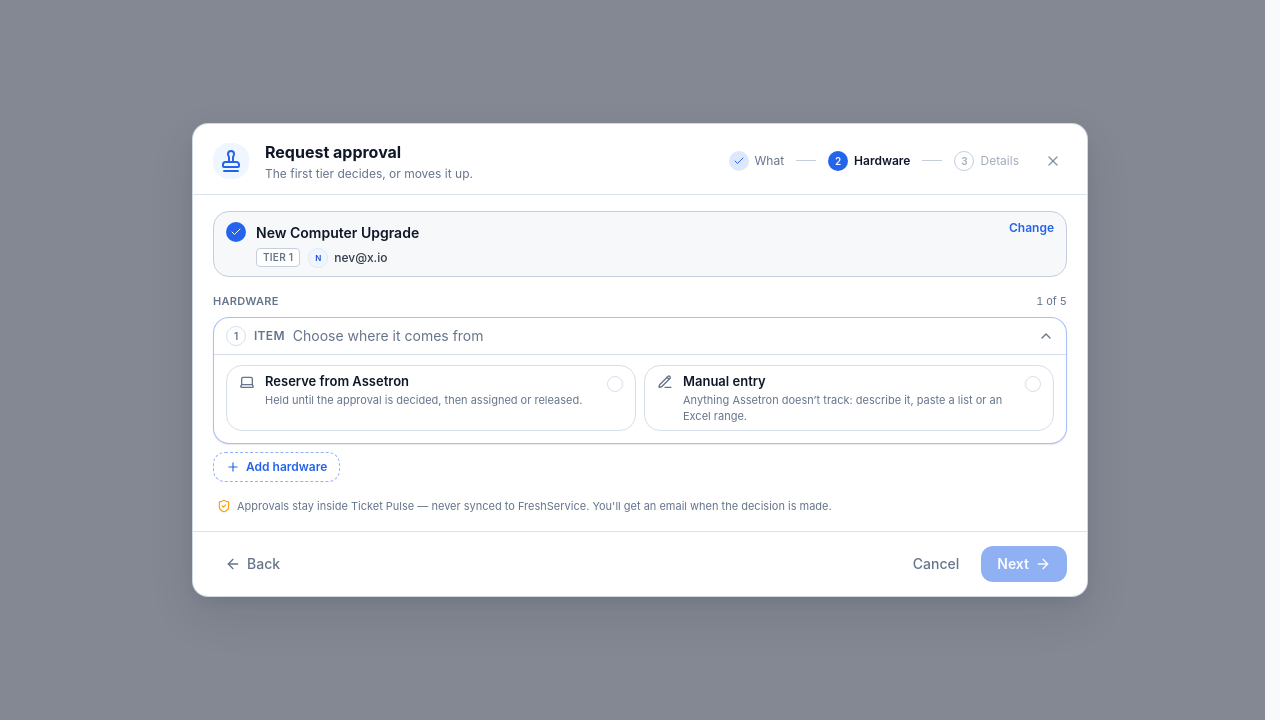
Test: RequestApprovalModal — steps and hardware items › up to 5 items; − removes one
Click the button with test id "add-hardware".
click(277, 467)  # box [213,452,340,482]
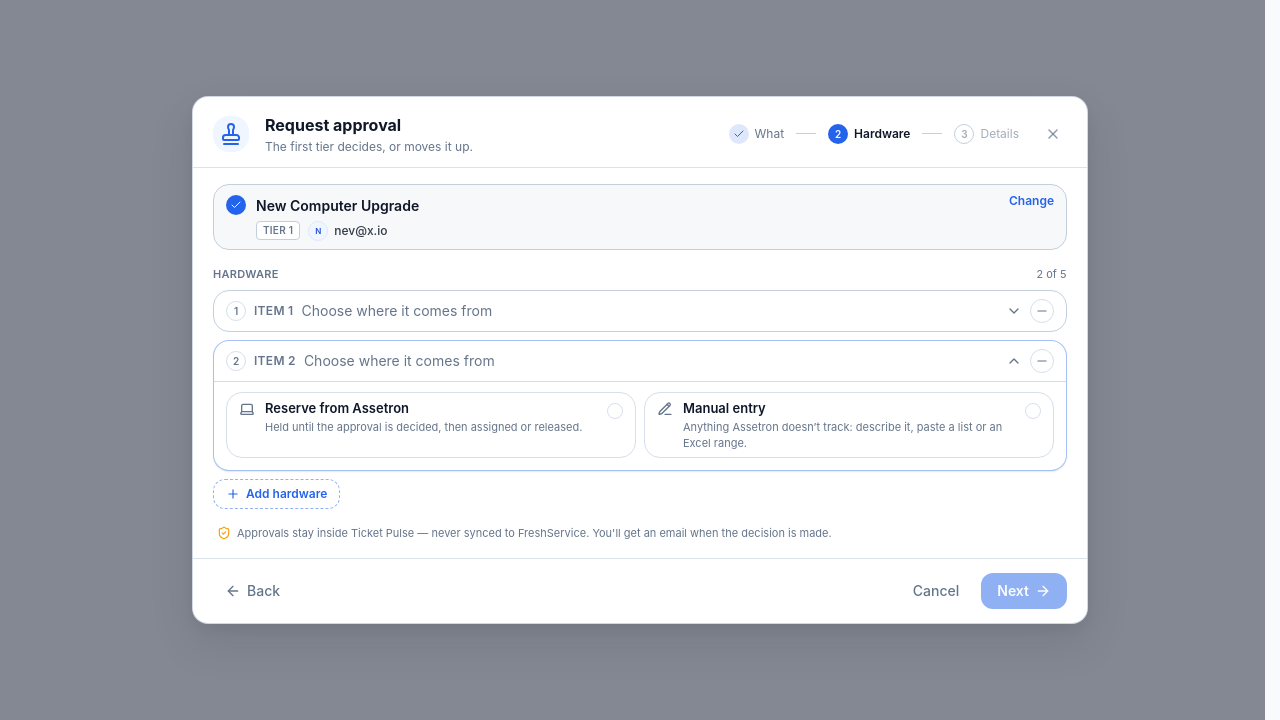
Click the button with test id "add-hardware".
click(277, 494)  # box [213,479,340,509]
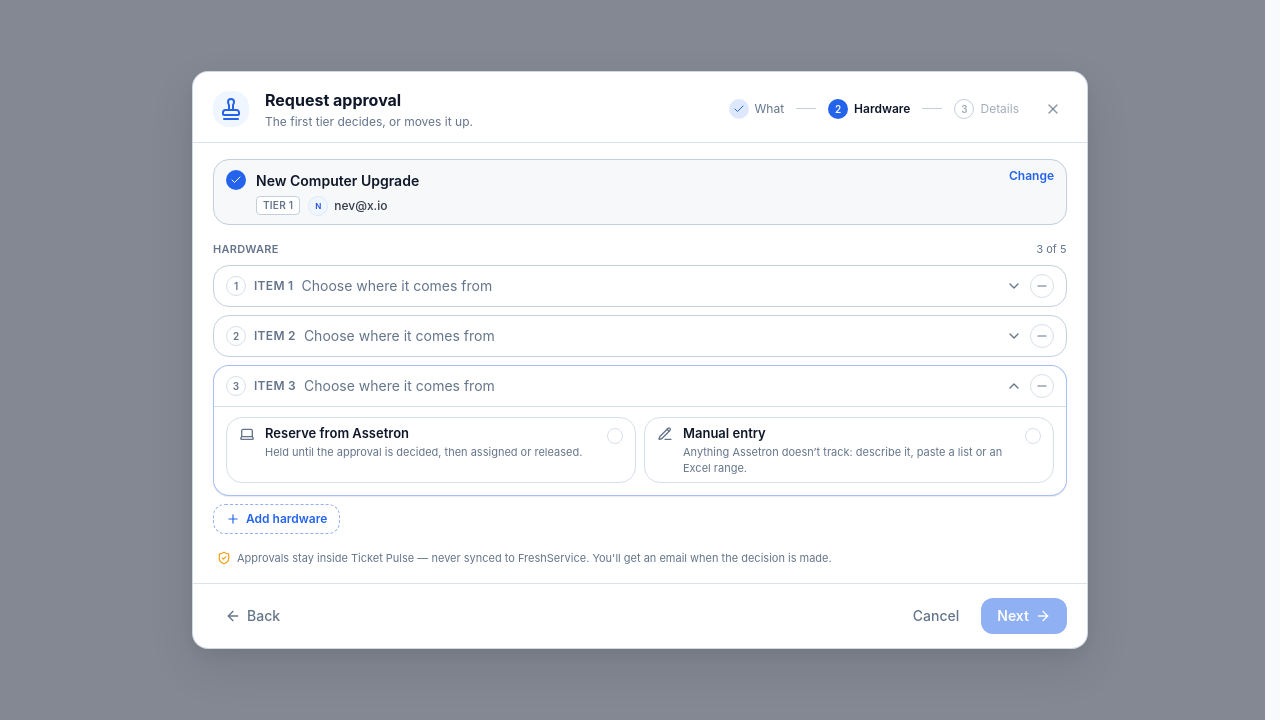
Click the button with test id "add-hardware".
click(277, 519)  # box [213,504,340,534]
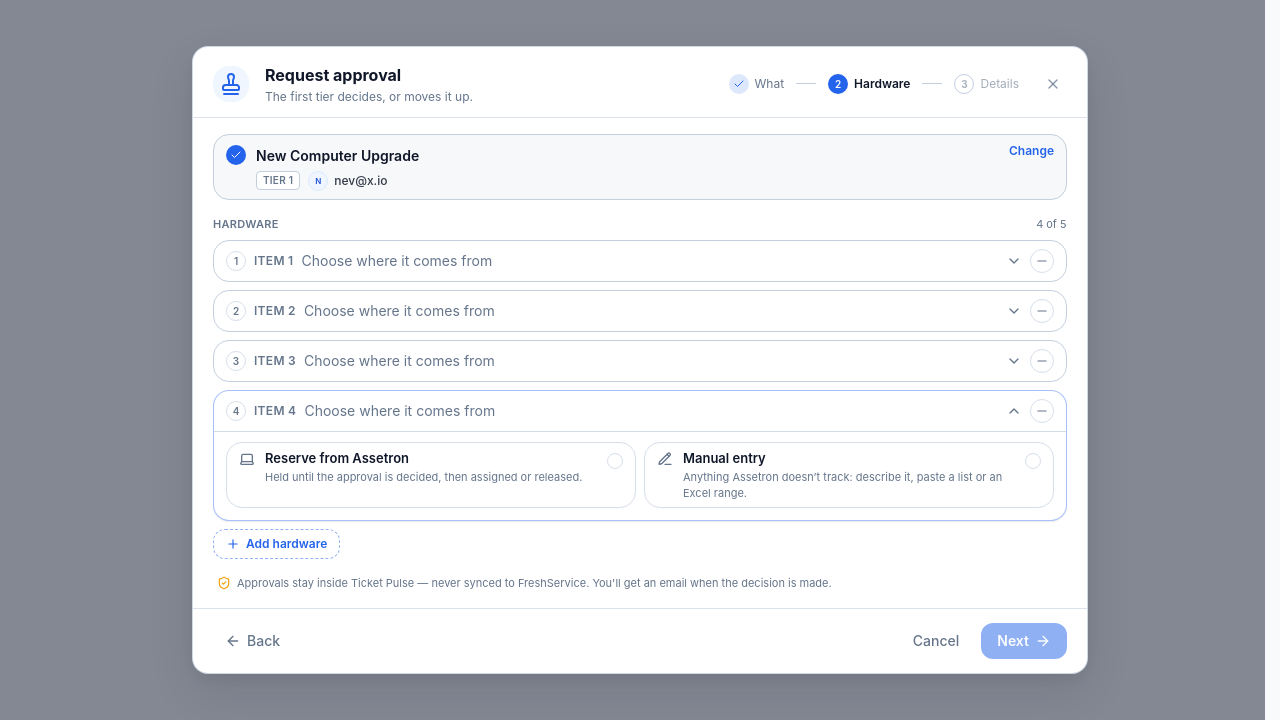
Click the button with test id "add-hardware".
click(277, 544)  # box [213,529,340,559]
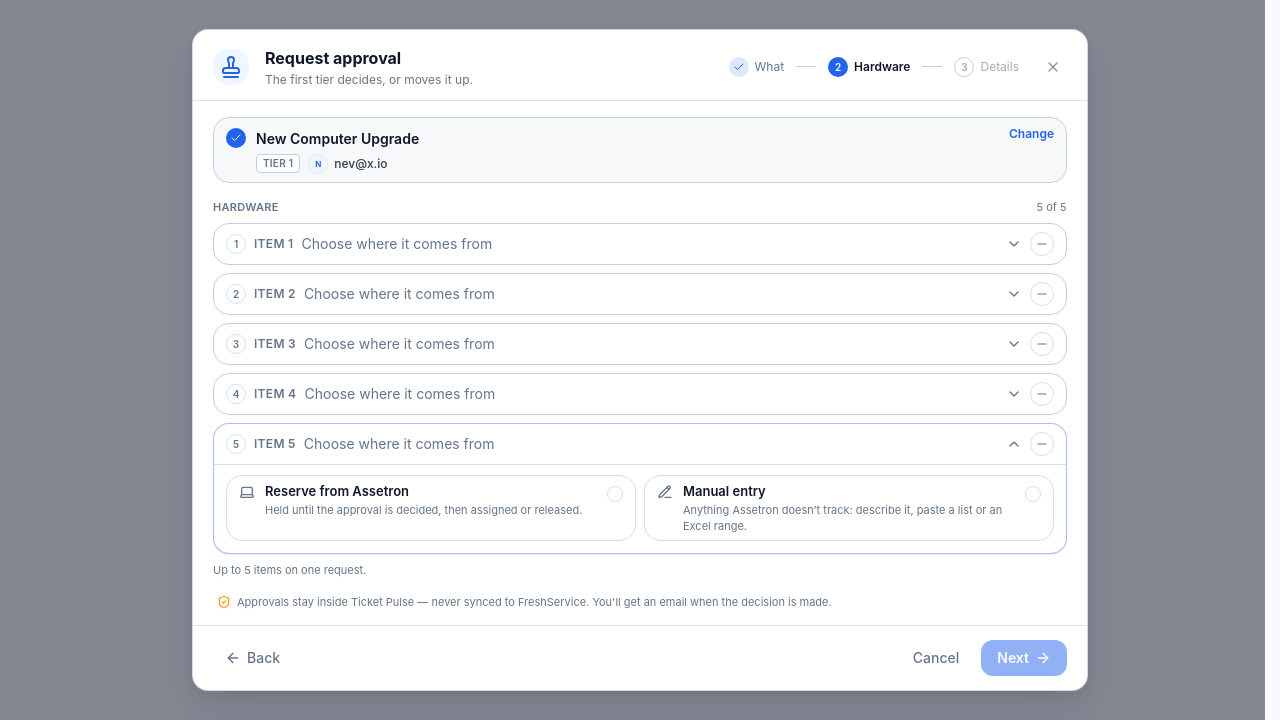
Expected: the number of elements with test id "hardware-item" is 5, [213,223,1067,265]; [213,273,1067,315]; [213,323,1067,365]; [213,373,1067,415]; [213,423,1067,554]
Expected: the button with test id "add-hardware" is gone
Expected: the text "Up to 5 items on one request." is shown, [213,563,366,577]
Click the button named "Remove item 3".
click(1042, 344)  # box [1030,332,1054,356]
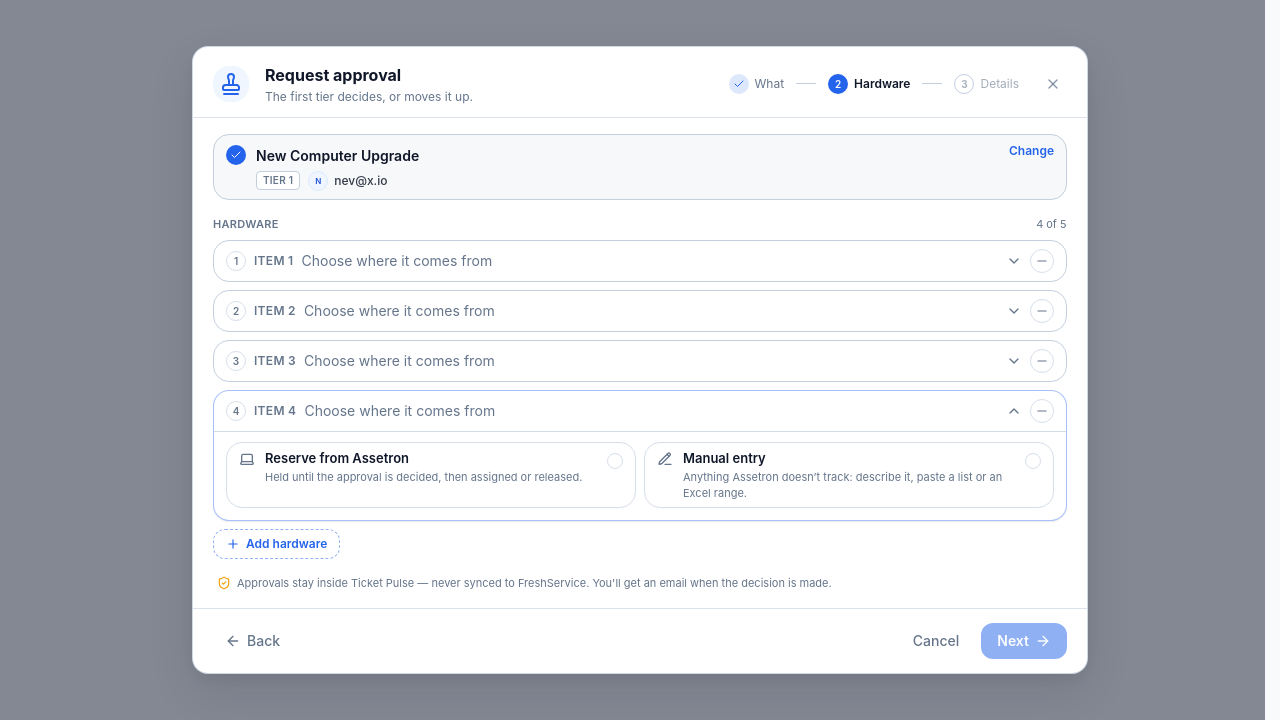
Expected: the number of elements with test id "hardware-item" is 4, [213,240,1067,282]; [213,290,1067,332]; [213,340,1067,382]; [213,390,1067,521]
Expected: the button with test id "add-hardware" is shown, [213,529,340,559]
